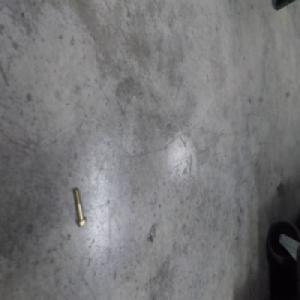Bolt: (72, 185, 87, 228)
